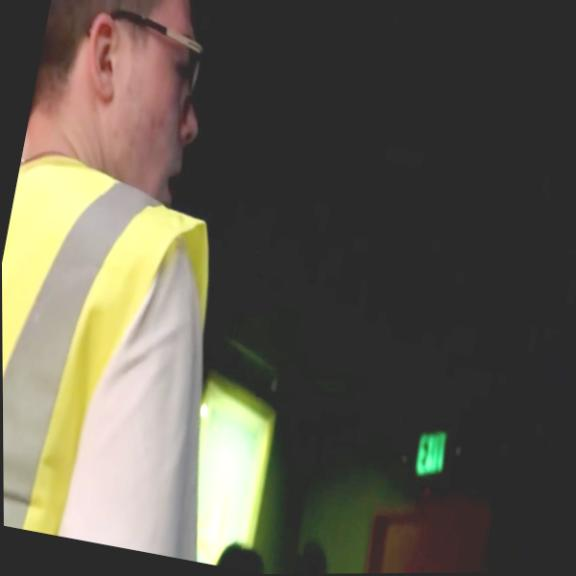safety_vest: (1, 143, 233, 556)
